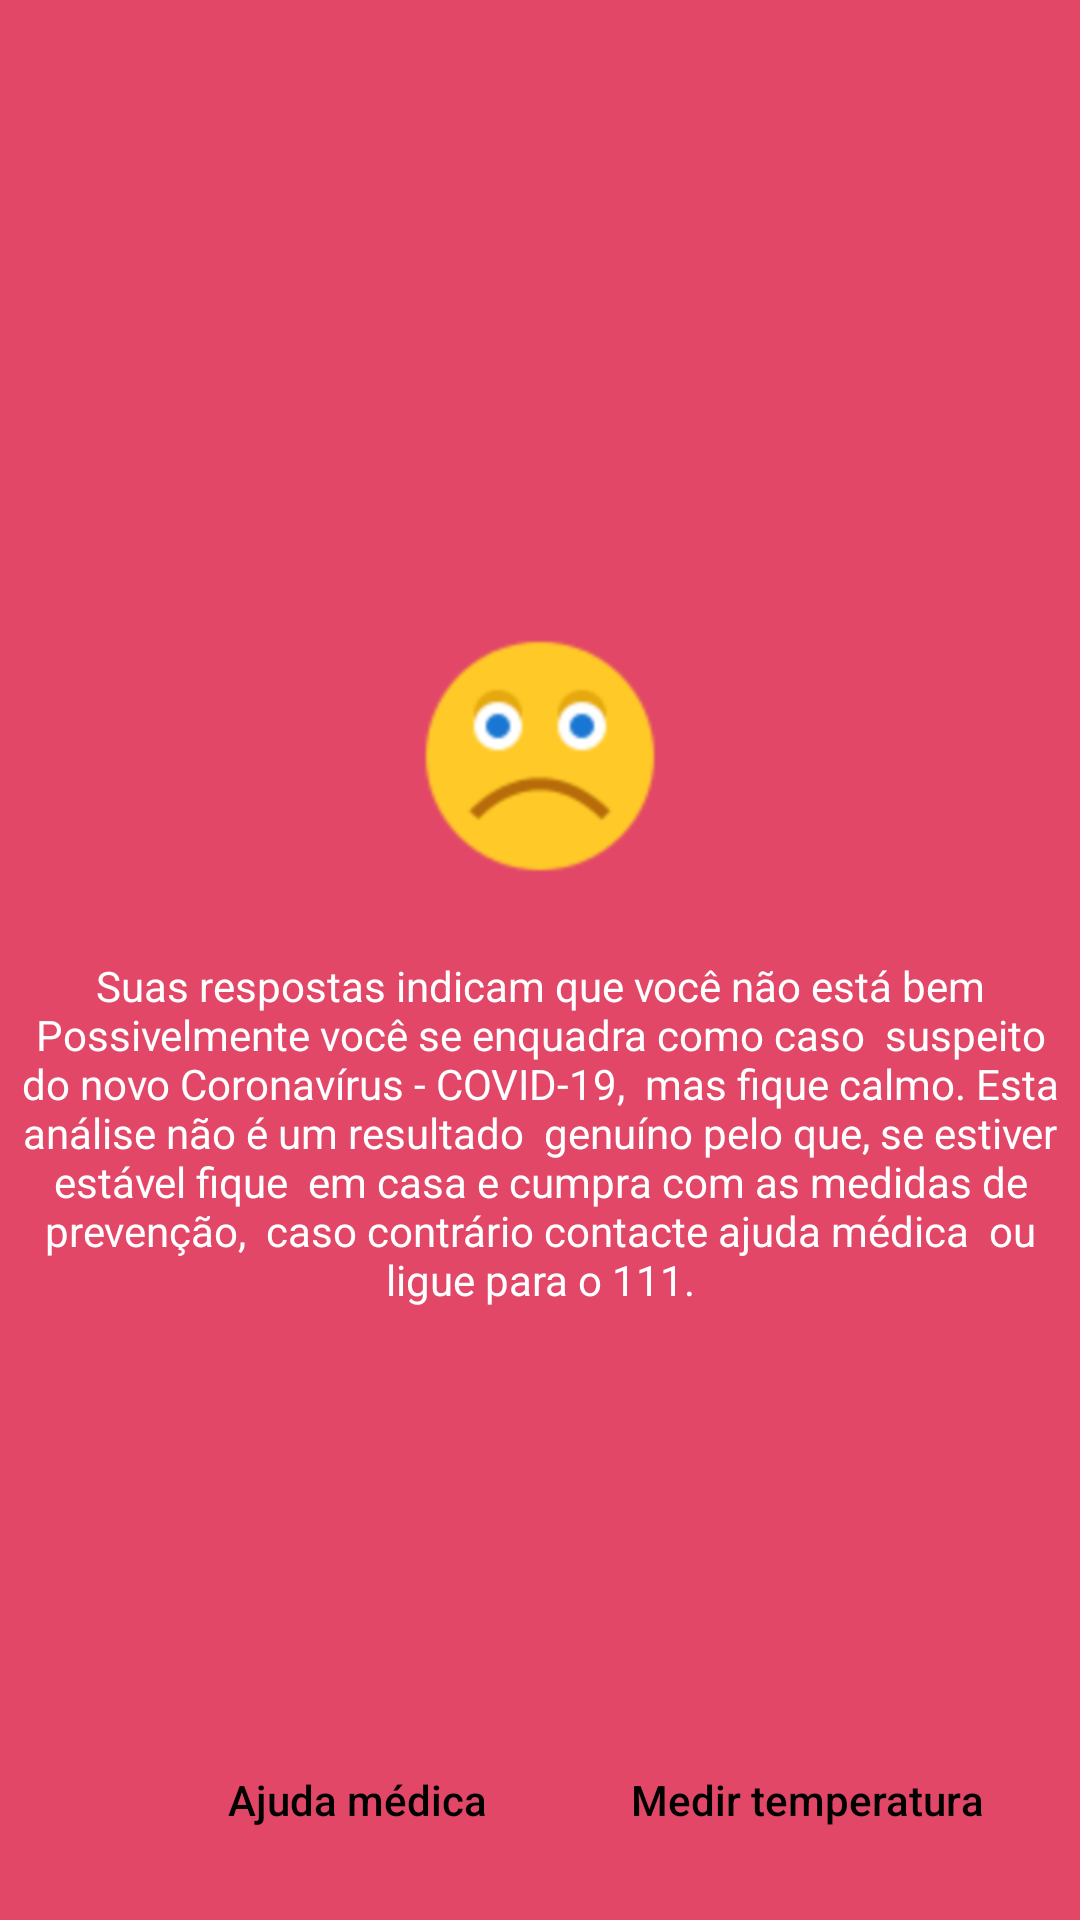

Icons on this 1080 x 1920 Android screen, each with its box as BBox(x1, y1, x2, y2):
sad: BBox(425, 641, 655, 871)
